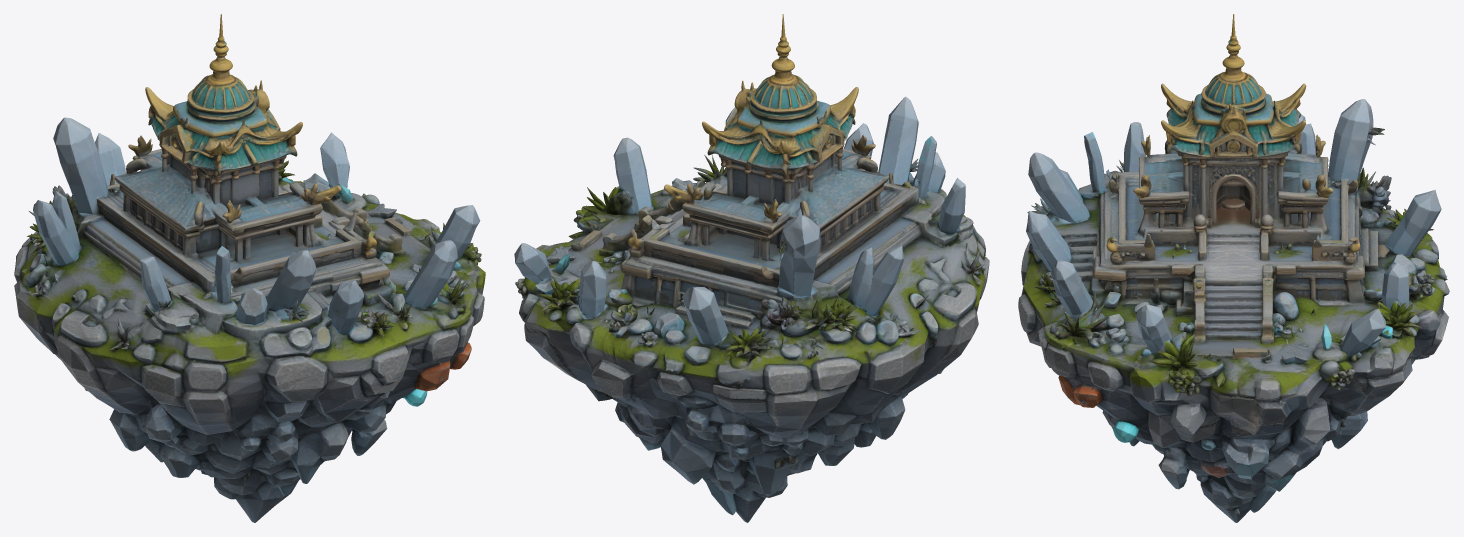
The model's file is model_dc7a0afa-f3fe-4e2a-a677-5137b6437ba8_draco.glb.
3 views of the same model, side by side, from view 1: azimuth 30°, elevation 25°; view 2: azimuth 150°, elevation 25°; view 3: azimuth 270°, elevation 25° (orthographic). The views are drawn at different scales.
Visible parts, largest first — view 1: tripo_node_dc7a0afa-f3fe-4e2a-a677-5137b6437ba8; view 2: tripo_node_dc7a0afa-f3fe-4e2a-a677-5137b6437ba8; view 3: tripo_node_dc7a0afa-f3fe-4e2a-a677-5137b6437ba8.
Part boxes in pixels (x1,y1,x2,y2): tripo_node_dc7a0afa-f3fe-4e2a-a677-5137b6437ba8: [14, 14, 485, 522]; tripo_node_dc7a0afa-f3fe-4e2a-a677-5137b6437ba8: [514, 14, 989, 522]; tripo_node_dc7a0afa-f3fe-4e2a-a677-5137b6437ba8: [1018, 14, 1449, 522].
Size of the model in its own units: 0.8168 by 0.998 by 0.7921.
1 material, 1 textured.
